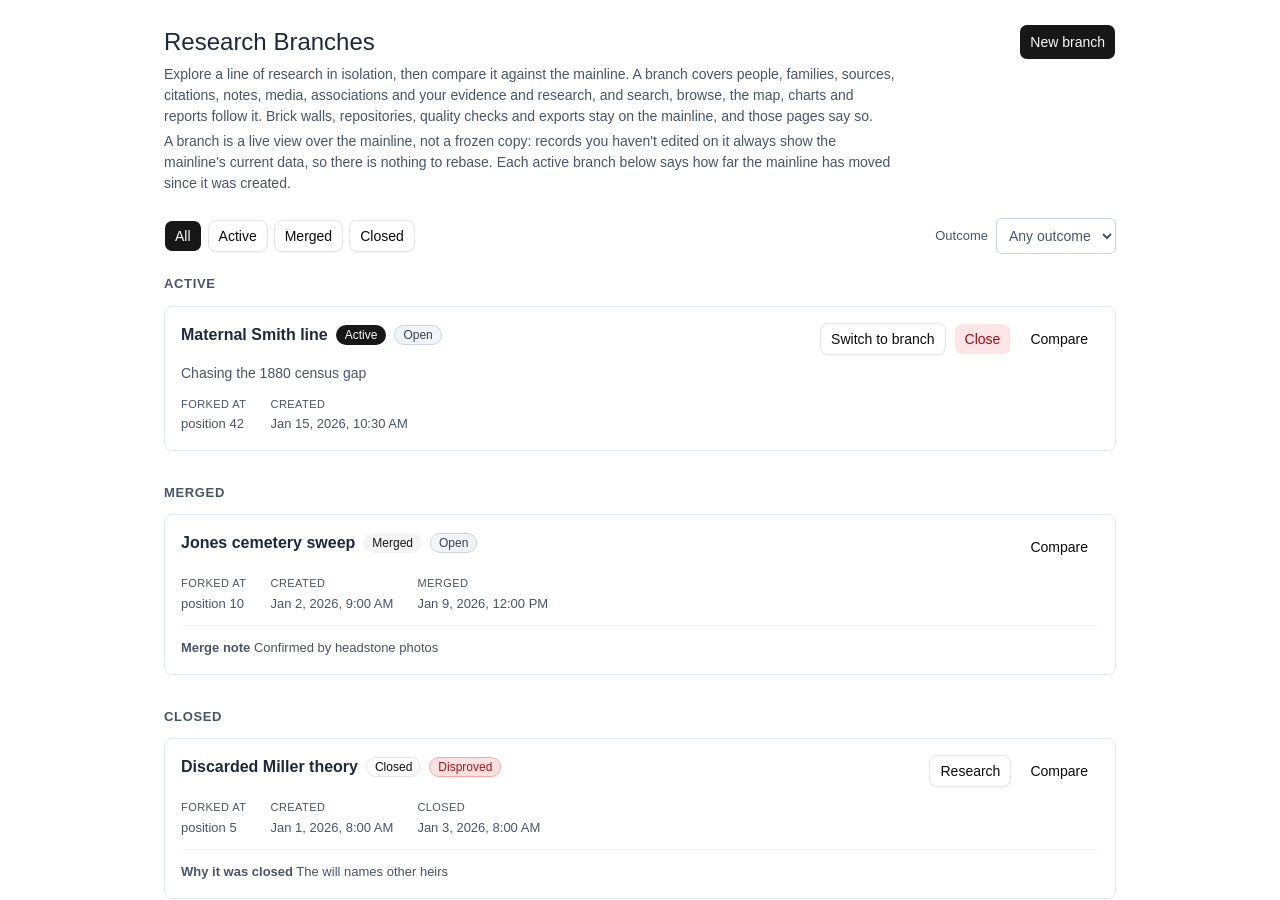
Branches page › closes a branch with an outcome and reason, then copies its research logs
The width and height of the screenshot is (1280, 900).
Expected: the link "Maternal Smith line" is shown, [181,322,328,346]
Click the button "Close". click: (982, 338)
box: [954,322,1011,354]
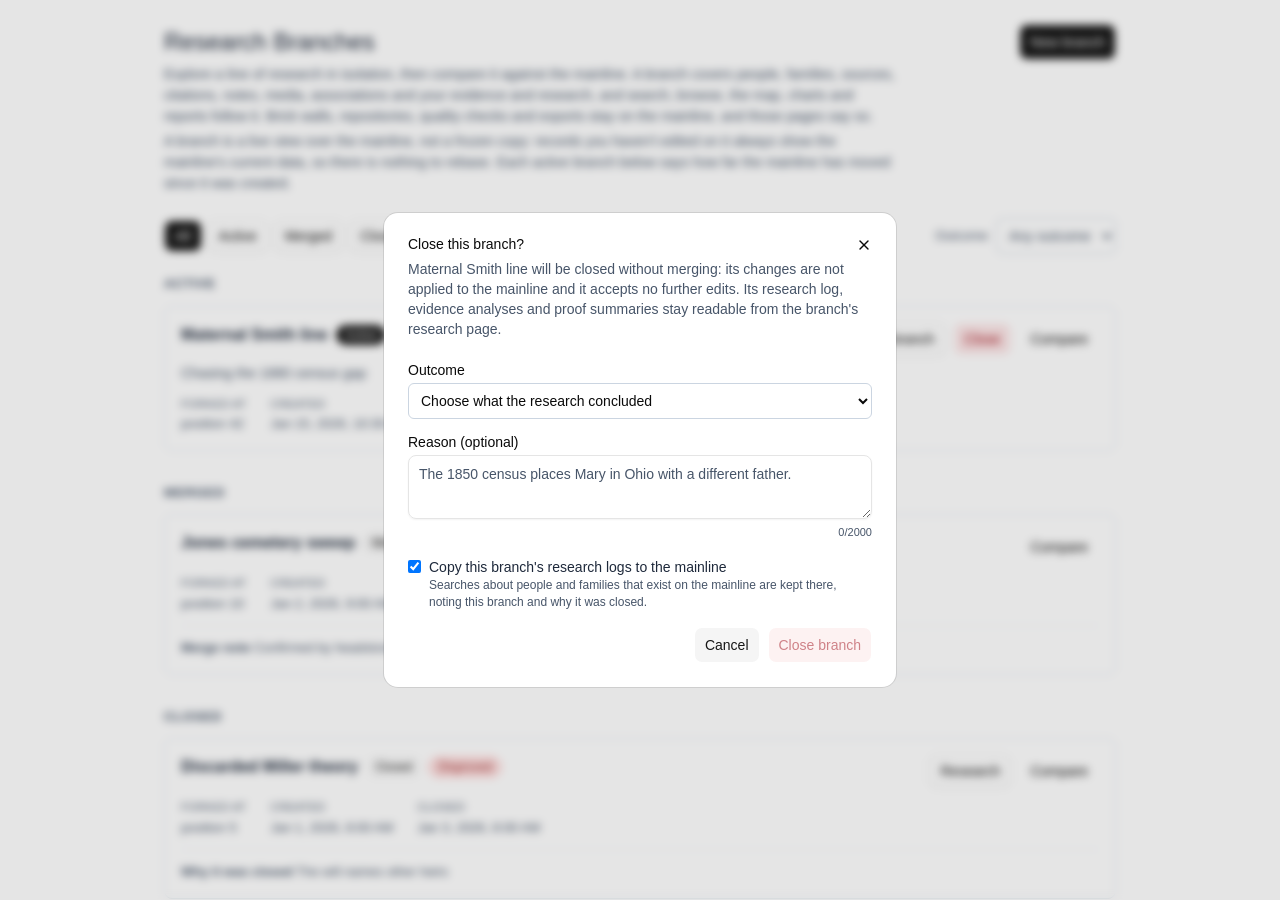
Expected: the button "Close branch" is disabled, [768,627,872,663]
Select "Disproved" in the dropdown labelled "Outcome". click: (640, 401)
box: [408,383,872,419]
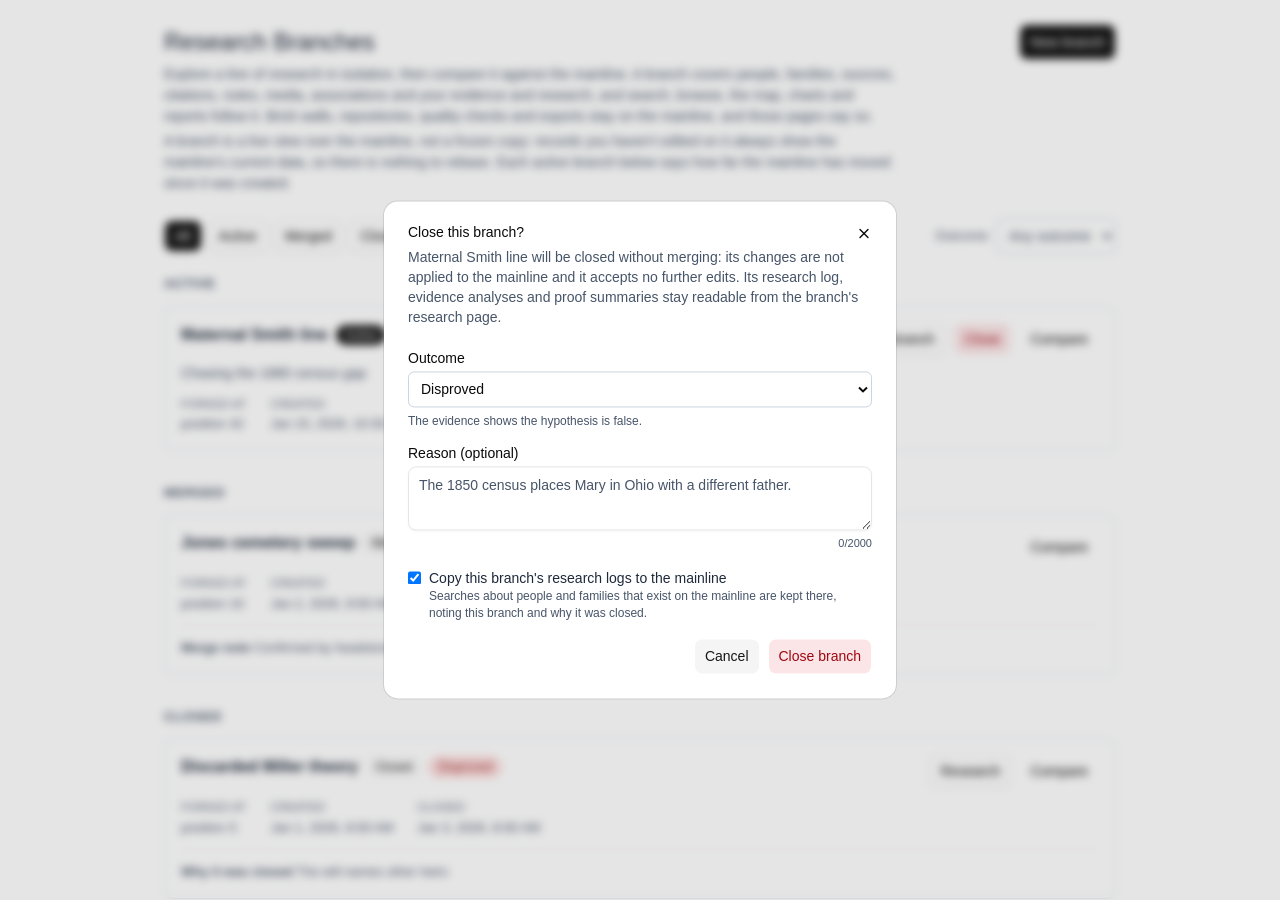
Type "  The will names other heirs  " into the text box labelled "Reason (optional)". click: (640, 499)
box: [408,467,872,531]
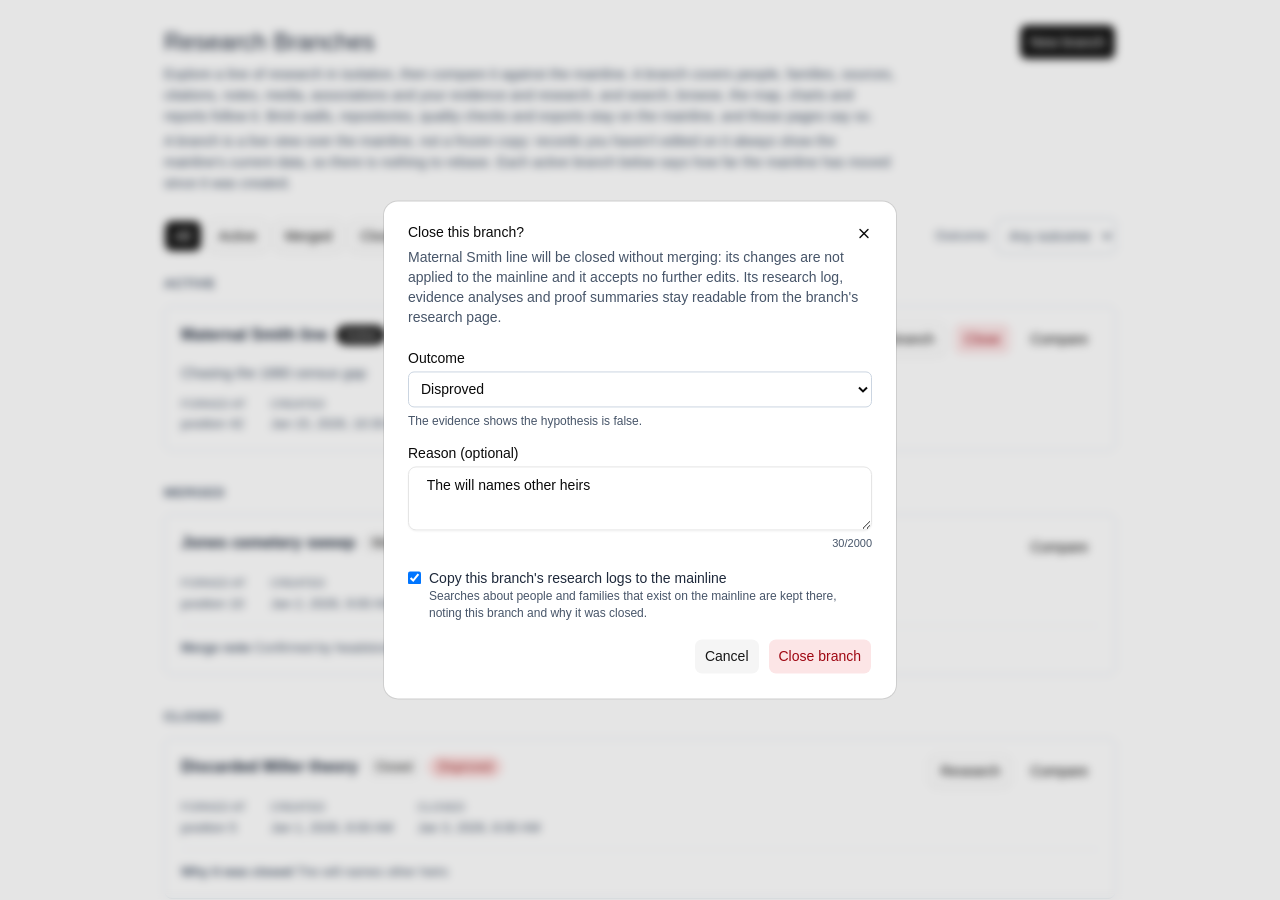
Click the button "Close branch". click: (820, 657)
box: [768,639,872,675]
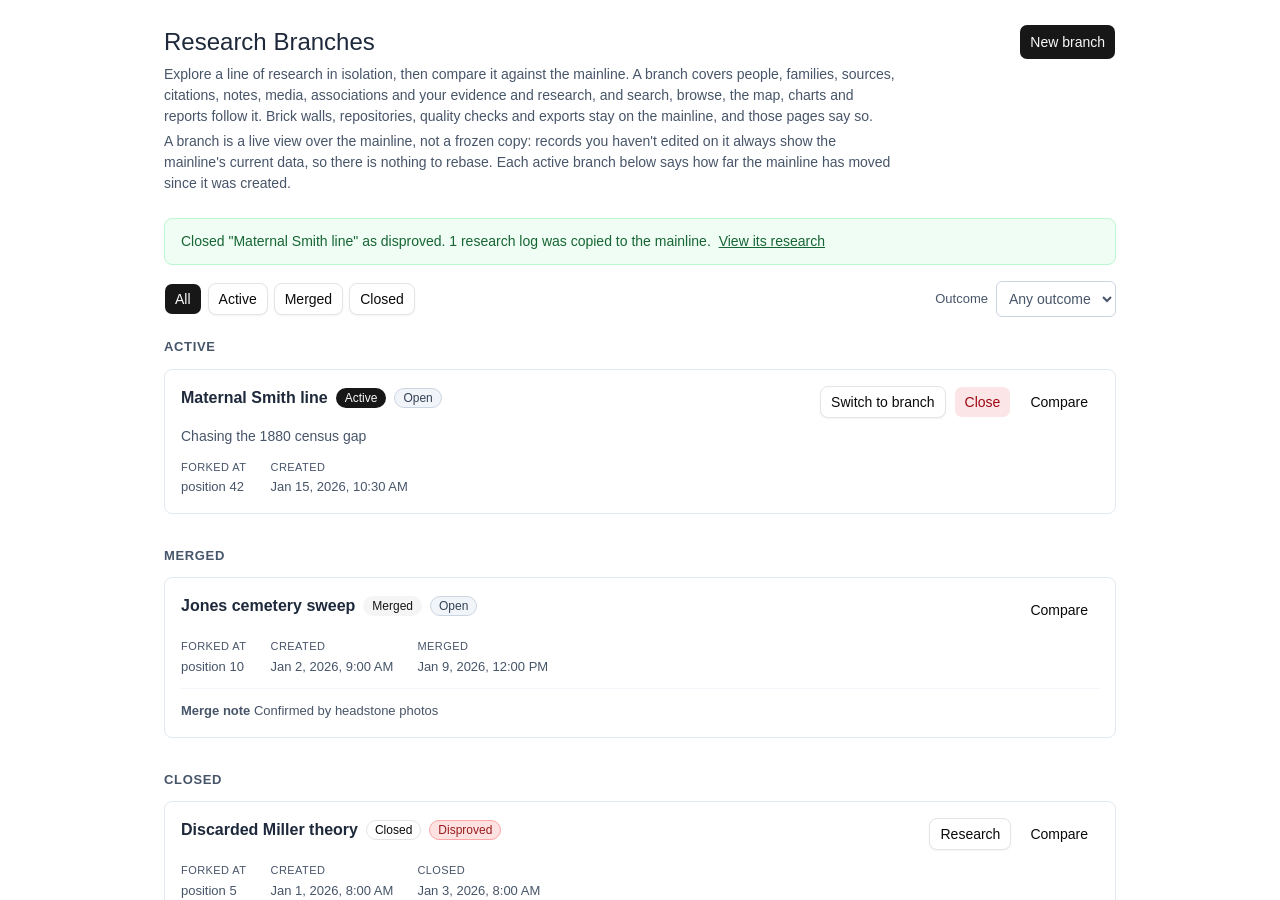
Expected: the text "Closed \"Maternal Smith line\" as disproved" shows "1 research log was copied to the mainline.", [181,233,715,249]
